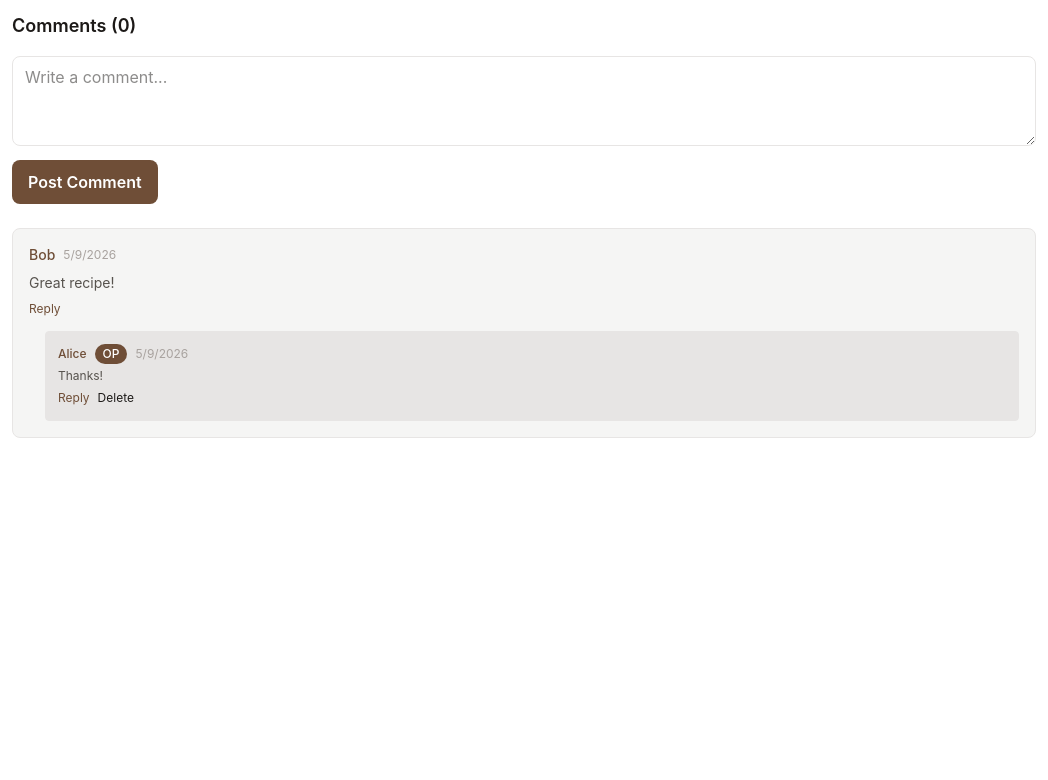
it: CommentSection — Reply button on replies › clicking Reply on a reply opens the form on the parent comment pre-filled with @username
Expected: the text "Thanks!" is shown, [58, 368, 103, 383]
# The second Reply button is on the reply (alice's reply)
Click the button "Reply" below "Thanks!": (74, 398) [58, 390, 90, 406]
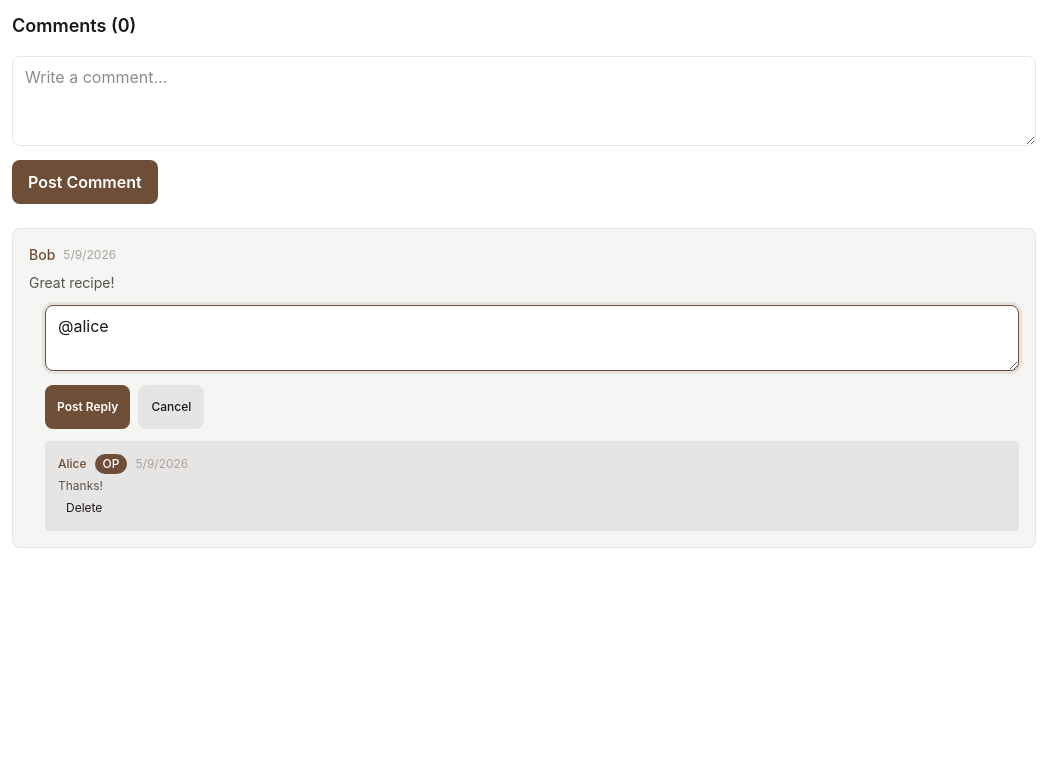
Now the text box with placeholder "Write a reply..." holds "@alice ", box [45, 305, 1019, 371]
